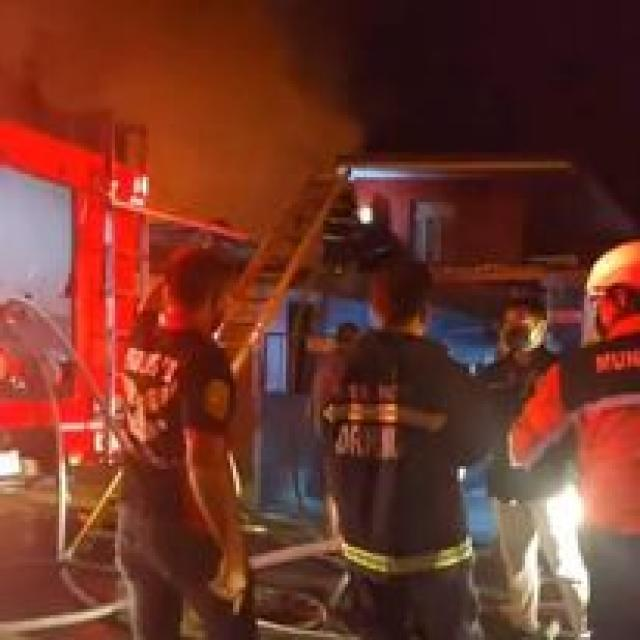Smoke: (76, 1, 351, 232)
